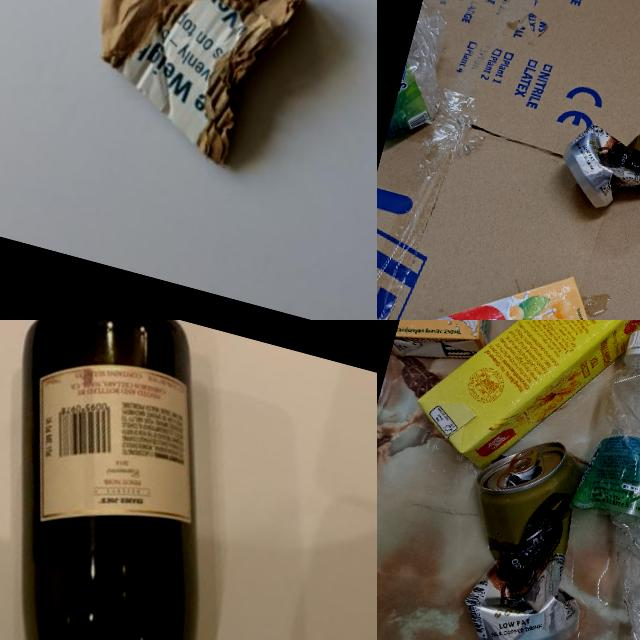aba de lata: (506, 442, 538, 478)
caixinha: (402, 320, 640, 501), (388, 320, 542, 380)
garrafa de vidro: (0, 320, 279, 640)
garrafa plástica: (533, 353, 640, 640), (377, 224, 617, 320), (383, 0, 459, 149)
lata: (431, 422, 620, 640), (553, 85, 640, 235)
papelão: (377, 0, 640, 320), (70, 0, 309, 175)
tampa plástica: (623, 322, 640, 368)
